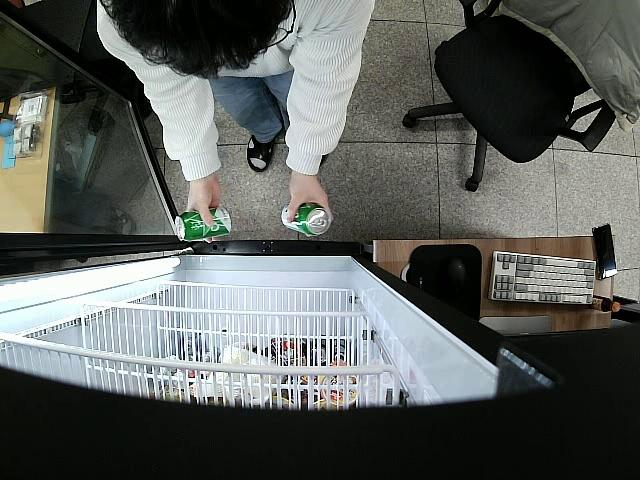00_hand: (285, 173, 332, 231), (189, 182, 222, 245)
12_chilsungCider: (175, 205, 233, 241), (282, 205, 330, 235)
